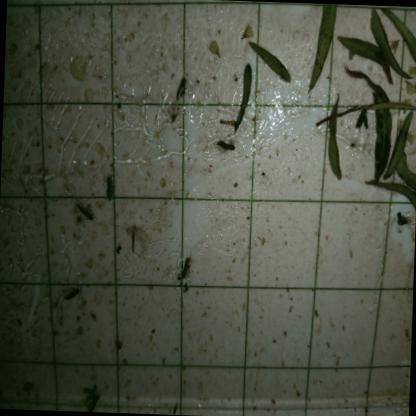prays_oleae: (98, 165, 122, 208), (214, 121, 240, 160), (77, 379, 104, 412), (176, 250, 198, 288), (72, 198, 98, 228), (171, 70, 191, 107), (58, 281, 82, 305)
